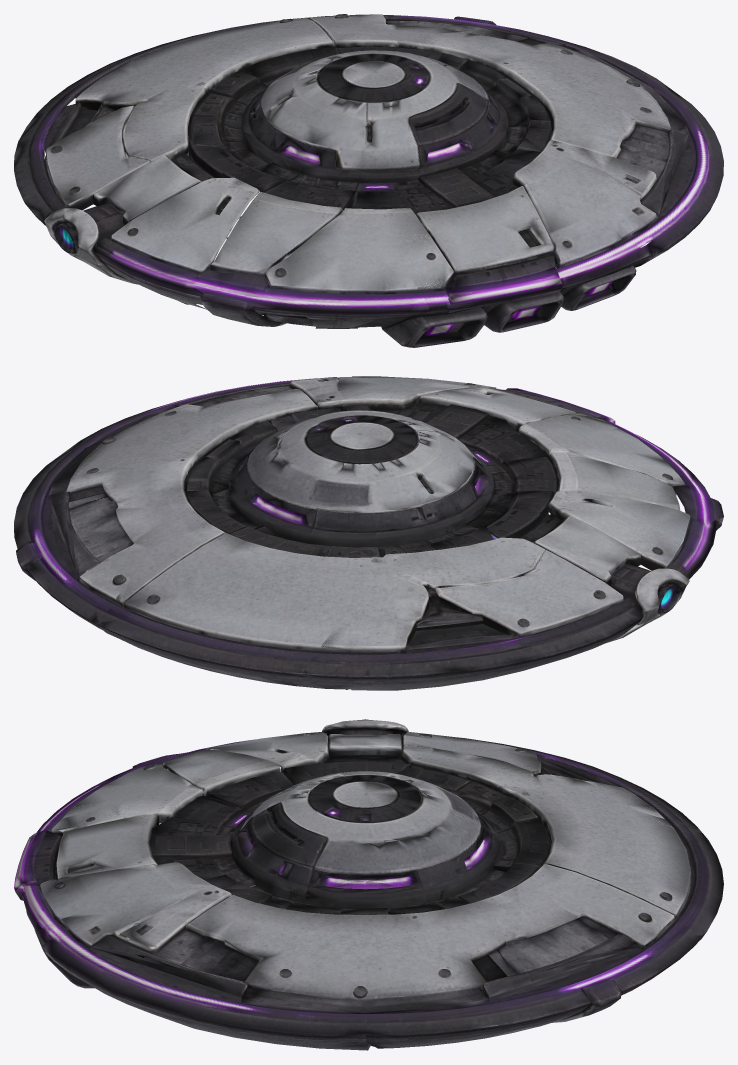
The model's file is detailed-04.glb.
3 views of the same model, one above another, from view 1: azimuth 30°, elevation 25°; view 2: azimuth 150°, elevation 25°; view 3: azimuth 270°, elevation 25° (orthographic).
Visible parts, largest first — view 1: debris_1_1, debris_0_1, debris_2_1, hull, debris_1_0, debris_0_0; view 2: debris_1_1, debris_0_1, debris_2_1, hull, debris_0_0, debris_1_0; view 3: debris_2_1, debris_1_1, debris_0_1, hull, debris_2_0.
Part boxes in pixels (<box>): debris_1_1: <box>100,17,631,314</box>; debris_0_1: <box>14,67,428,317</box>; debris_2_1: <box>317,14,723,265</box>; hull: <box>44,15,695,347</box>; debris_1_0: <box>226,216,629,347</box>; debris_0_0: <box>50,234,428,347</box>; debris_1_1: <box>100,378,623,678</box>; debris_0_1: <box>303,428,723,681</box>; debris_2_1: <box>14,376,414,626</box>; hull: <box>25,377,720,689</box>; debris_0_0: <box>307,494,680,690</box>; debris_1_0: <box>107,632,317,687</box>; debris_2_1: <box>40,869,703,1040</box>; debris_1_1: <box>14,771,723,937</box>; debris_0_1: <box>40,719,701,832</box>; hull: <box>36,763,707,1044</box>; debris_2_0: <box>43,948,647,1050</box>.
Size of the model in its own units: 1 by 0.3161 by 0.9951.
2 materials, 1 textured.
